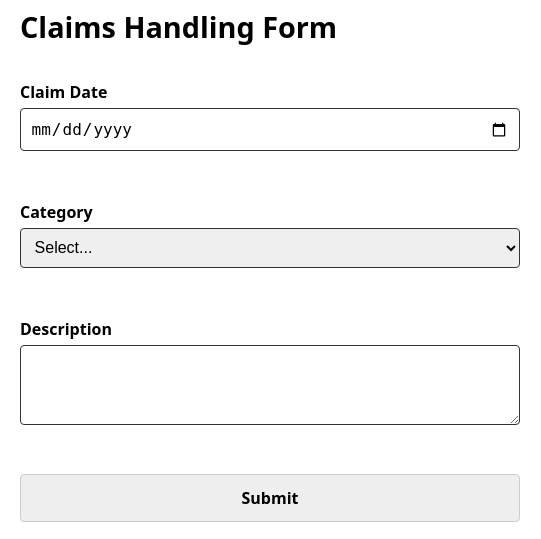
Test case: ClaimsForm › shows loading state while submitting
Step 1. Type "2025-06-27" into the date field labelled "Claim Date" → (270, 130), box [20,108,520,151]
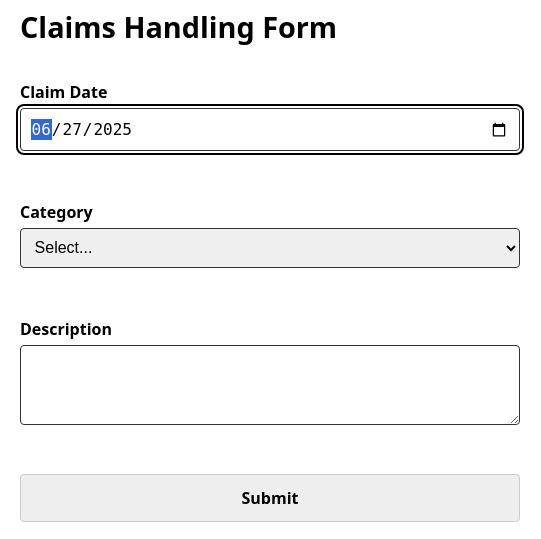
Step 2. Select "Theft" in the dropdown labelled "Category" → (270, 248), box [20,228,520,268]
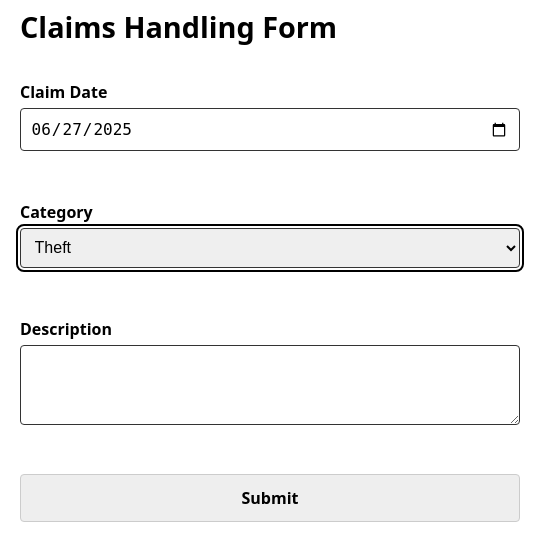
Step 3. Type "Slow network test" into the text box labelled "Description" → (270, 385), box [20,345,520,425]
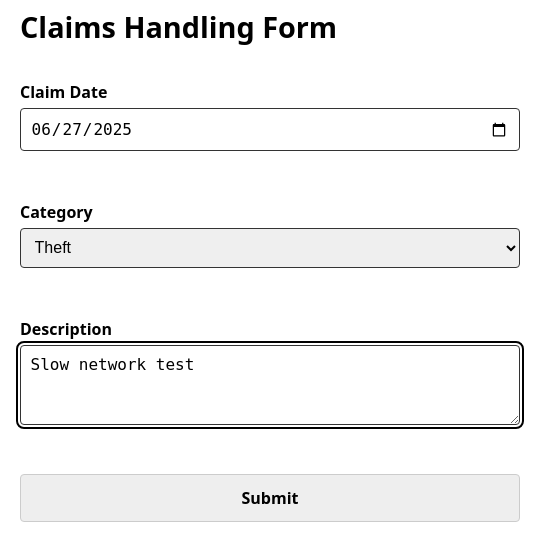
Step 4. Click the button "Submit" → (270, 498), box [20,474,520,522]
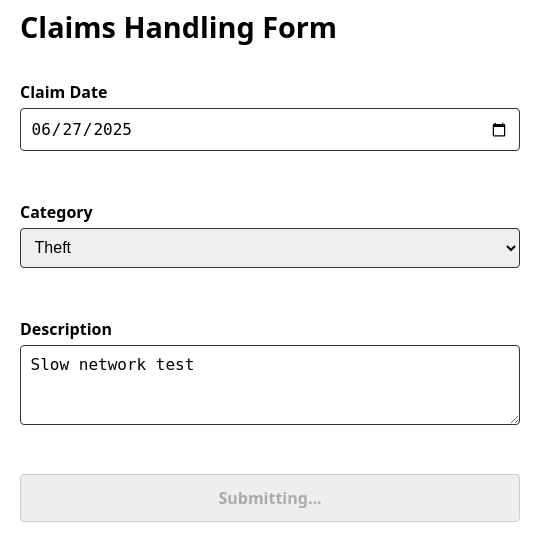
expect the button "Submitting..." is shown: met, box [20,474,520,522]
